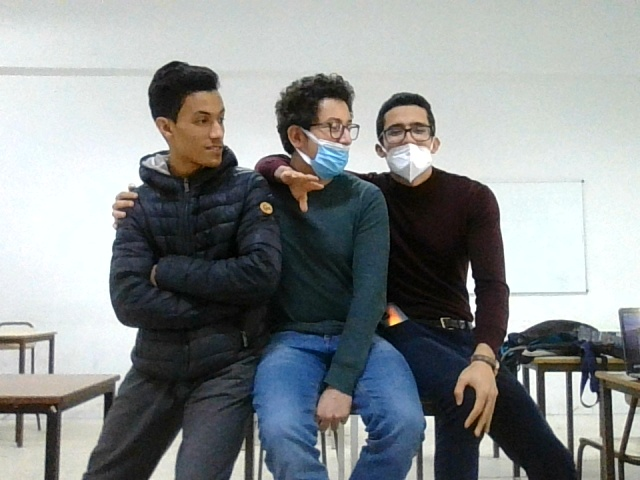mask_weared_incorrect: (273, 72, 366, 184), (372, 94, 451, 190)
without_mask: (144, 65, 234, 172)
